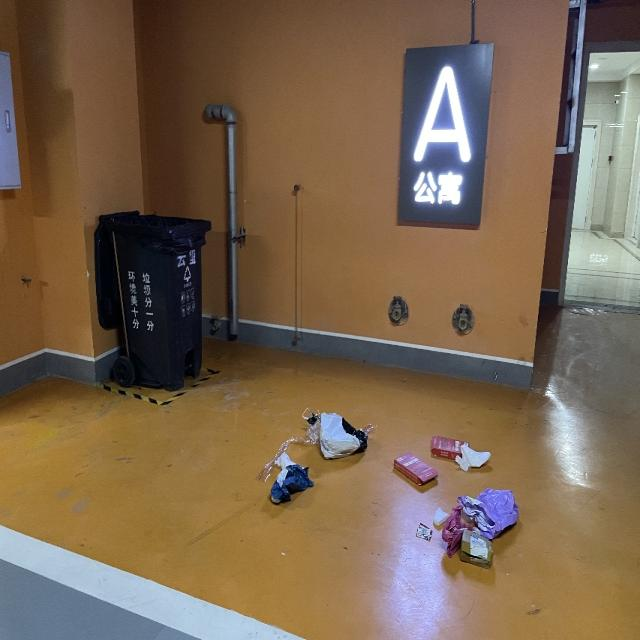garbage: (392, 434, 519, 569), (254, 405, 373, 505)
garbage_bin: (94, 209, 211, 391)
